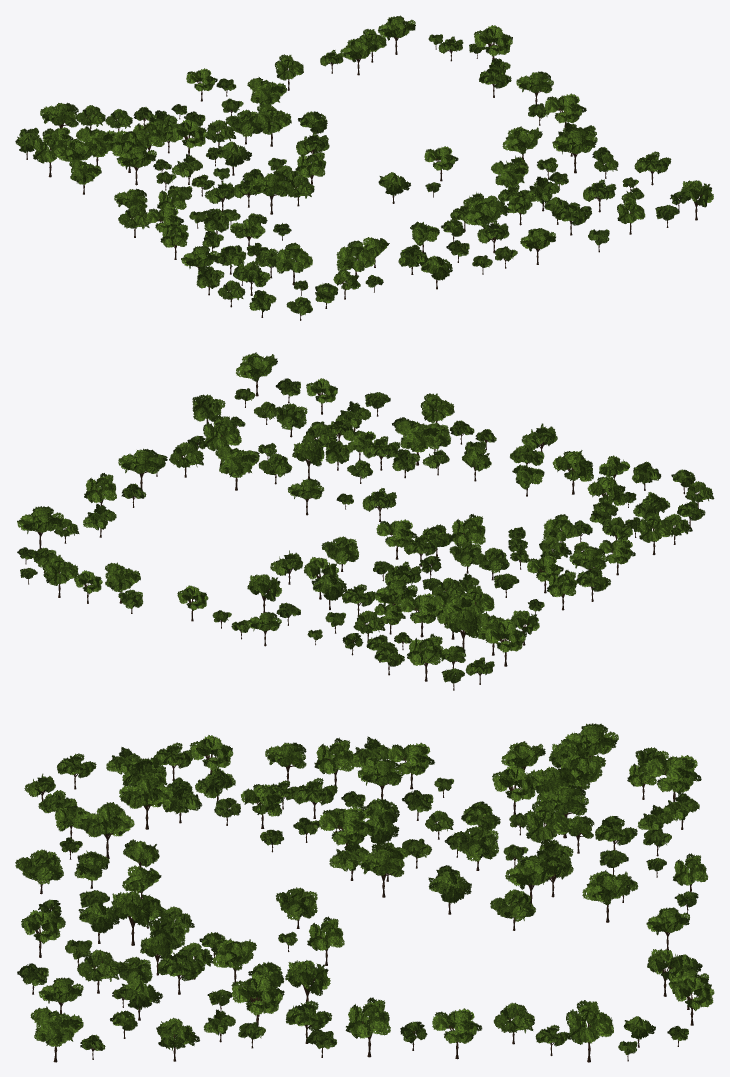
The model's file is forest.glb.
3 views of the same model, one above another, from view 1: azimuth 30°, elevation 25°; view 2: azimuth 150°, elevation 25°; view 3: azimuth 270°, elevation 25° (orthographic). The views are drawn at different scales.
Parts seen in each view (by area): view 1: Bois de chenes secteur (1, 1), Bois de chenes secteur (0, 1), Bois de chenes secteur (2, 3), Bois de chenes secteur (0, 0), Bois de chenes secteur (0, 3), Bois de chenes secteur (0, 2), Bois de chenes secteur (1, 3), Bois de chenes secteur (3, 3), Bois de chenes secteur (3, 2), Bois de chenes secteur (1, 0), Bois de chenes secteur (2, 2), Bois de chenes secteur (3, 1) (+3 smaller); view 2: Bois de chenes secteur (1, 1), Bois de chenes secteur (2, 3), Bois de chenes secteur (0, 0), Bois de chenes secteur (0, 1), Bois de chenes secteur (0, 3), Bois de chenes secteur (0, 2), Bois de chenes secteur (3, 3), Bois de chenes secteur (2, 2), Bois de chenes secteur (1, 0), Bois de chenes secteur (1, 3), Bois de chenes secteur (3, 2), Bois de chenes secteur (3, 0) (+3 smaller); view 3: Bois de chenes secteur (2, 3), Bois de chenes secteur (1, 1), Bois de chenes secteur (0, 1), Bois de chenes secteur (0, 0), Bois de chenes secteur (0, 2), Bois de chenes secteur (0, 3), Bois de chenes secteur (1, 3), Bois de chenes secteur (3, 2), Bois de chenes secteur (3, 3), Bois de chenes secteur (1, 0), Bois de chenes secteur (2, 2), Bois de chenes secteur (3, 1) (+4 smaller).
Part boxes in pixels (left/top/right/bottom): Bois de chenes secteur (1, 1): left=171, top=103, right=329, bottom=207; Bois de chenes secteur (0, 1): left=69, top=127, right=234, bottom=237; Bois de chenes secteur (2, 3): left=441, top=176, right=609, bottom=274; Bois de chenes secteur (0, 0): left=15, top=102, right=164, bottom=177; Bois de chenes secteur (0, 3): left=196, top=242, right=360, bottom=320; Bois de chenes secteur (0, 2): left=146, top=206, right=268, bottom=274; Bois de chenes secteur (1, 3): left=336, top=221, right=469, bottom=292; Bois de chenes secteur (3, 3): left=579, top=151, right=713, bottom=234; Bois de chenes secteur (3, 2): left=502, top=122, right=618, bottom=190; Bois de chenes secteur (1, 0): left=133, top=68, right=286, bottom=153; Bois de chenes secteur (2, 2): left=378, top=146, right=528, bottom=204; Bois de chenes secteur (3, 1): left=479, top=58, right=586, bottom=128; Bois de chenes secteur (1, 1): left=304, top=519, right=481, bottom=616; Bois de chenes secteur (2, 3): left=301, top=392, right=496, bottom=478; Bois de chenes secteur (0, 0): left=366, top=593, right=526, bottom=690; Bois de chenes secteur (0, 1): left=430, top=547, right=610, bottom=645; Bois de chenes secteur (0, 3): left=587, top=455, right=714, bottom=544; Bois de chenes secteur (0, 2): left=508, top=512, right=671, bottom=586; Bois de chenes secteur (3, 3): left=192, top=352, right=337, bottom=437; Bois de chenes secteur (2, 2): left=258, top=441, right=396, bottom=521; Bois de chenes secteur (1, 0): left=231, top=574, right=405, bottom=655; Bois de chenes secteur (1, 3): left=462, top=423, right=593, bottom=496; Bois de chenes secteur (3, 2): left=154, top=415, right=276, bottom=490; Bois de chenes secteur (3, 0): left=17, top=506, right=102, bottom=603; Bois de chenes secteur (2, 3): left=17, top=891, right=205, bottom=994; Bois de chenes secteur (1, 1): left=358, top=801, right=573, bottom=914; Bois de chenes secteur (0, 1): left=351, top=736, right=575, bottom=839; Bois de chenes secteur (0, 0): left=537, top=723, right=701, bottom=838; Bois de chenes secteur (0, 2): left=189, top=735, right=365, bottom=842; Bois de chenes secteur (0, 3): left=24, top=742, right=202, bottom=838; Bois de chenes secteur (1, 3): left=15, top=802, right=161, bottom=907; Bois de chenes secteur (3, 2): left=203, top=960, right=336, bottom=1057; Bois de chenes secteur (3, 3): left=30, top=977, right=199, bottom=1062; Bois de chenes secteur (1, 0): left=568, top=815, right=707, bottom=922; Bois de chenes secteur (2, 2): left=179, top=887, right=344, bottom=988; Bois de chenes secteur (3, 1): left=345, top=997, right=567, bottom=1059.
Bounding box in the file's own units: 234 × 20.88 × 227.
Materials: 4 (4 with a texture image).
